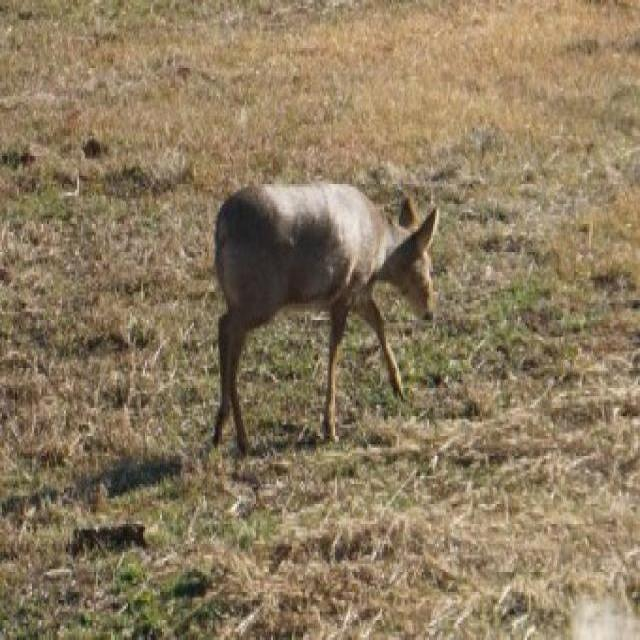deer: (192, 163, 490, 510)
